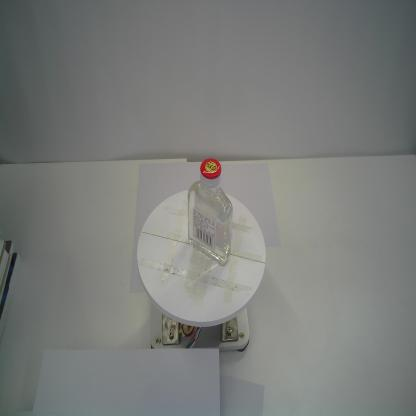Alcohol: (186, 158, 234, 268)
